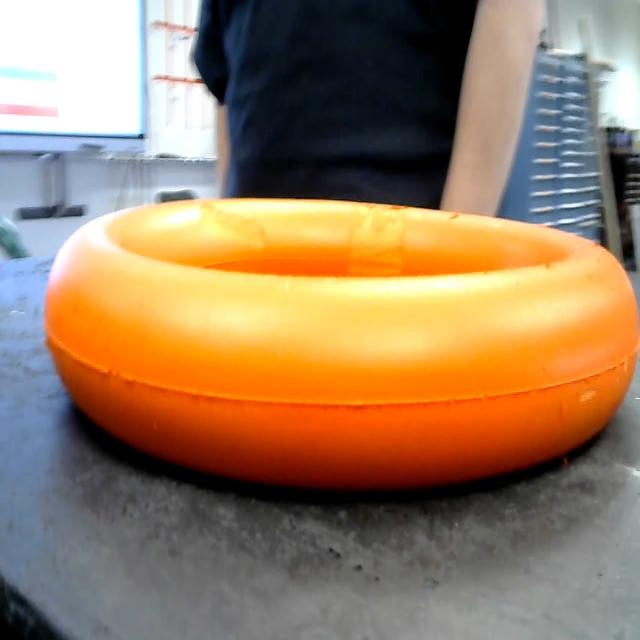note: (34, 175, 640, 496)
